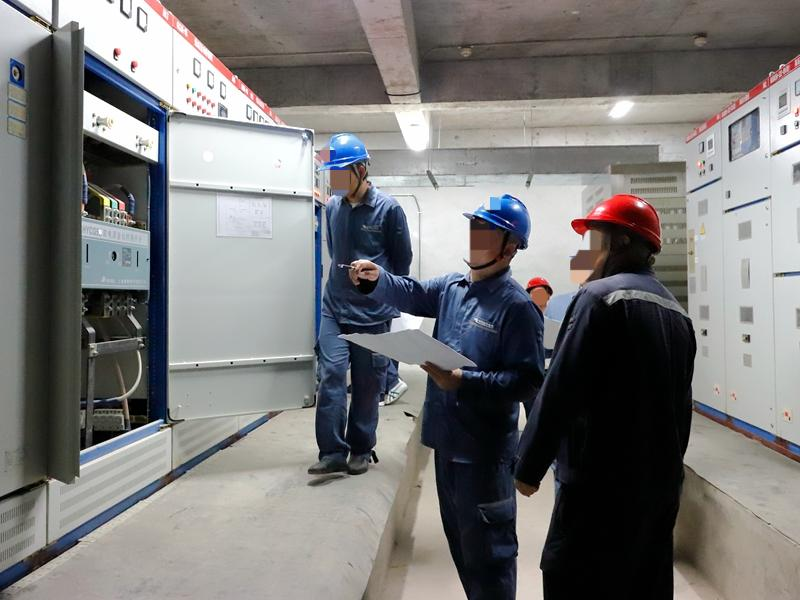halt: (573, 197, 667, 280), (463, 196, 535, 277), (323, 134, 374, 199), (526, 276, 556, 307)
inear: (606, 230, 636, 265), (495, 234, 524, 269), (354, 164, 371, 187)
